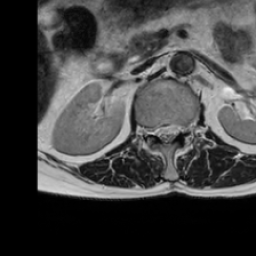CCS_normal: (163, 116, 170, 150)
LFS_normal: (180, 117, 187, 139)
LLS_normal: (170, 116, 178, 144)
RFS_normal: (147, 119, 154, 144)
RLS_normal: (154, 119, 163, 145)
